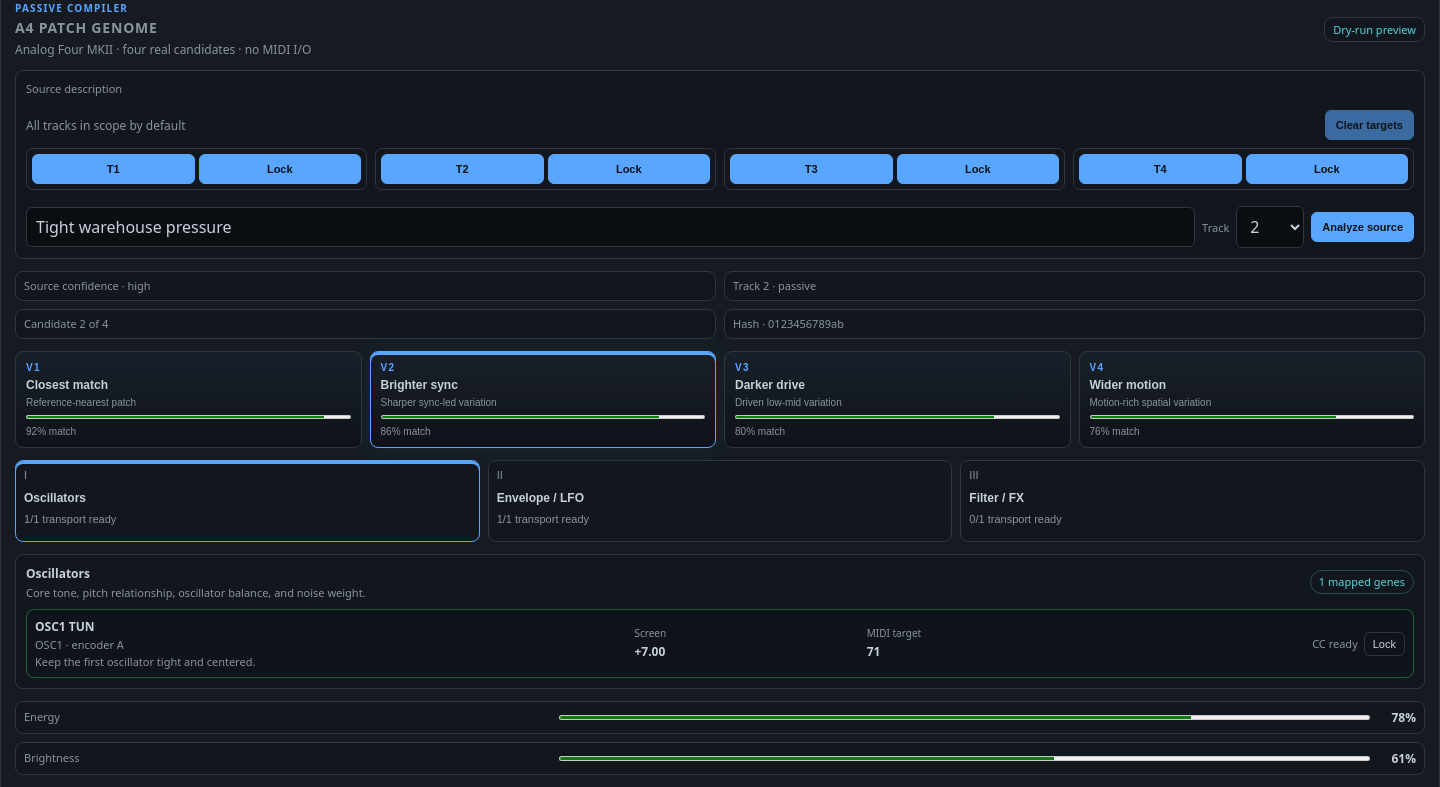
Test: PatchGenomePanel › switches between real candidate columns and resets to the compiler selection
This screenshot has width=1440, height=787.
Step 1. Click the tab with test id "patch-genome-candidate-4" → (1128, 384), box [1078,350,1425,448]
(page scrolled)
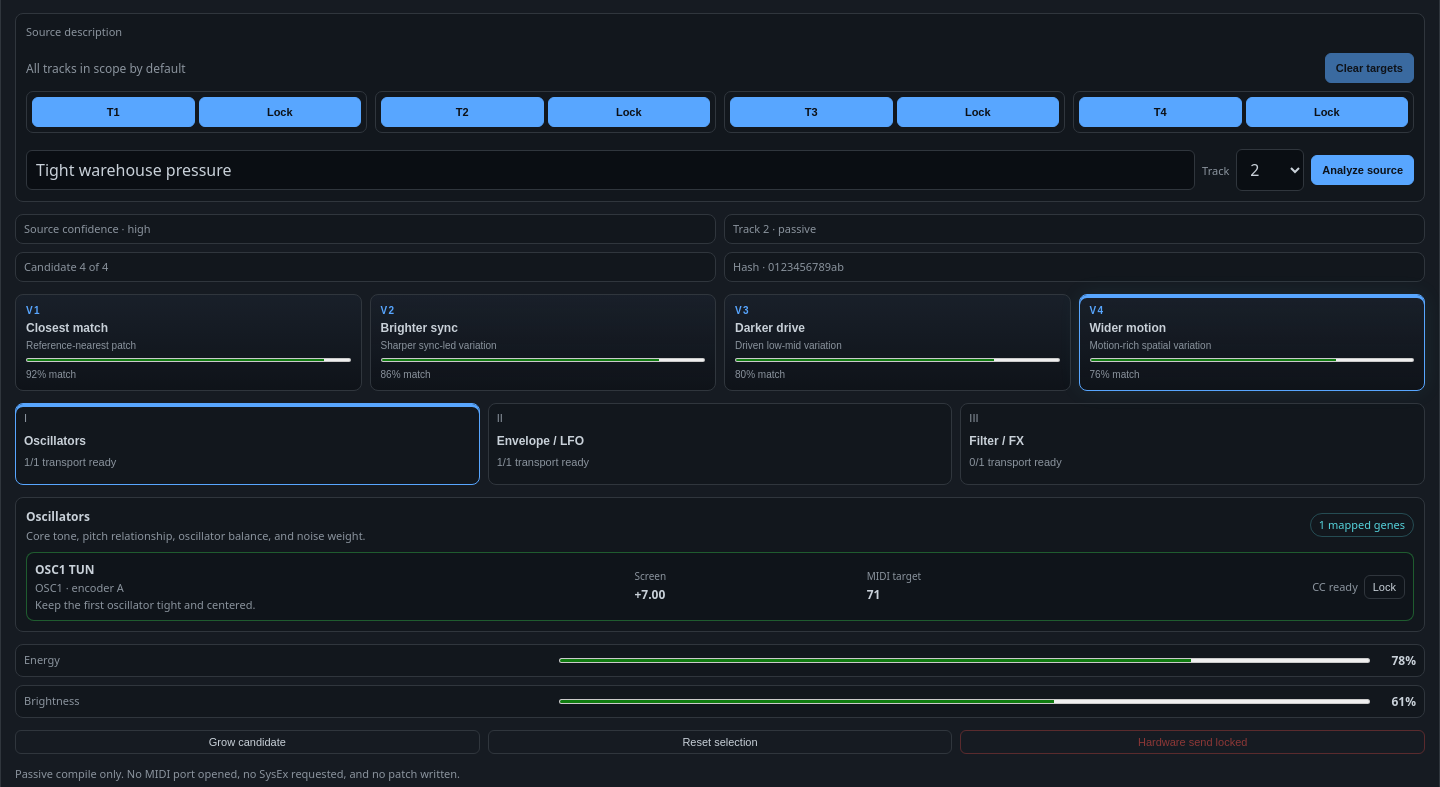
Check: the text with test id "patch-genome-variant" reads "Candidate 4 of 4", box [15,252,716,282]
Step 2. Click the button "Grow candidate" → (247, 742), box [15,730,480,754]
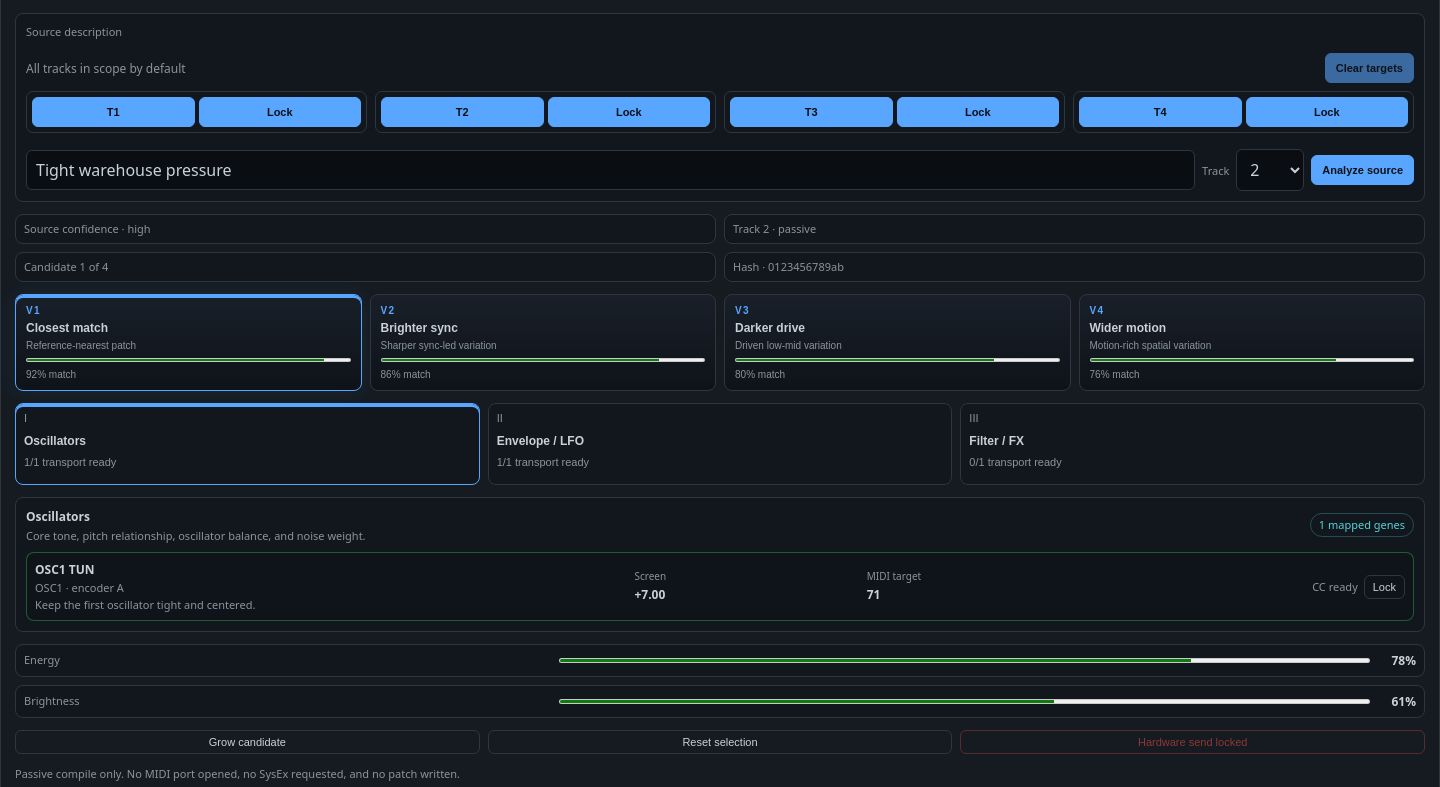
Check: the text with test id "patch-genome-variant" reads "Candidate 1 of 4", box [15,252,716,282]
Step 3. Click the button "Reset selection" → (720, 742), box [488,730,952,754]
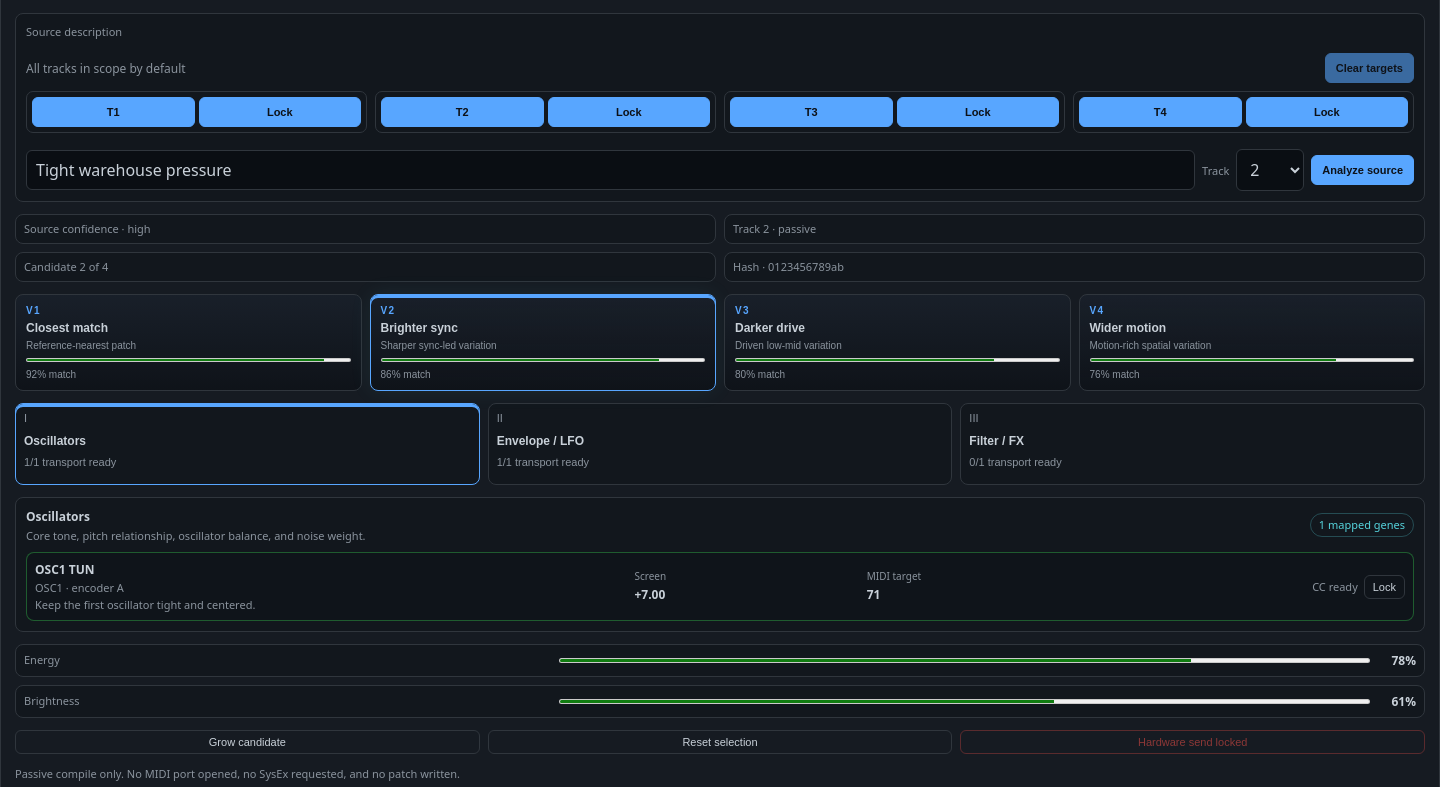
Check: the text with test id "patch-genome-variant" reads "Candidate 2 of 4", box [15,252,716,282]
